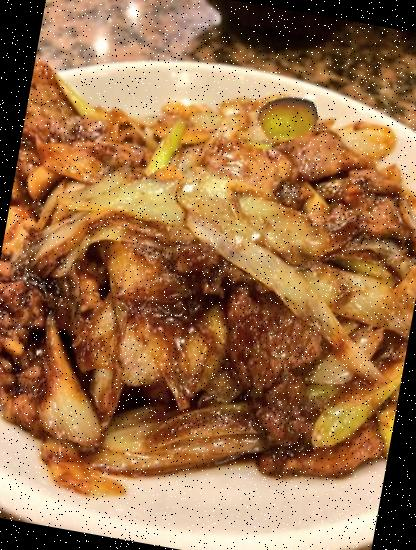Kumquats: (252, 84, 324, 154)
